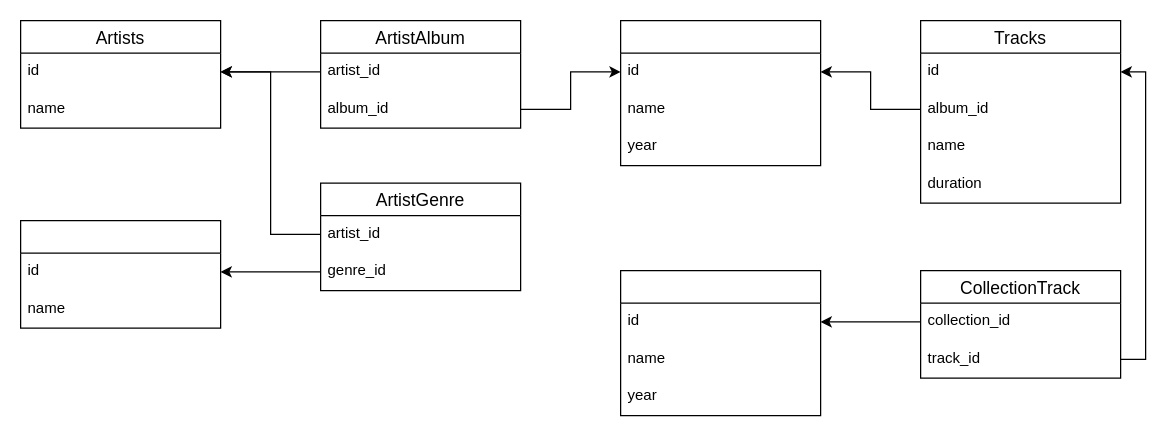
Some shapes in this 1166 by 436 pixel diagram are drawn without their labels. The shapes that lost their labels are listed below. From the top down, each one's box as (x1, y1, x2, y2) in pixels, then its label:
(619, 19, 821, 166): Albums
(19, 219, 221, 328): Genres
(619, 269, 821, 416): Collections
